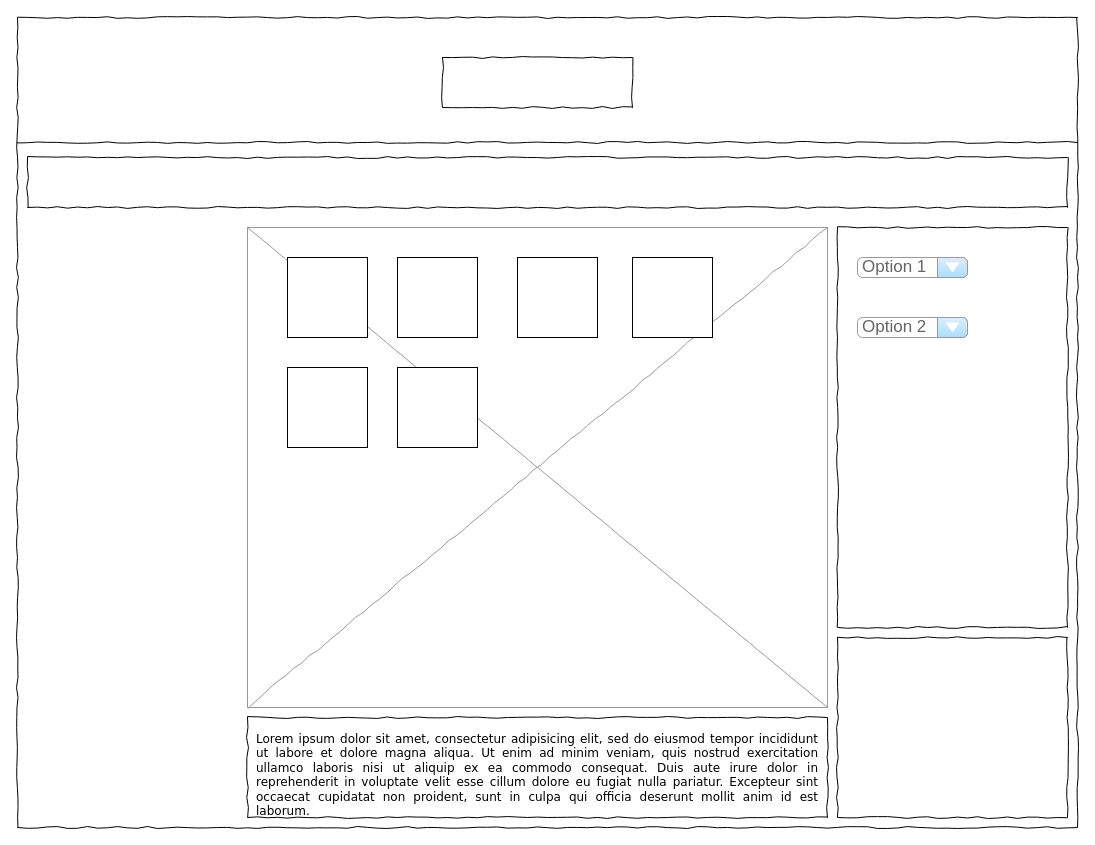
This 1095x845 diagram has some shape labels left out. The shapes that lost their labels are listed below. From the top down, each one's centre as x and y in pixels, then its label:
At pixel 537 82: "UI".
At pixel 952 727: "External Links".
